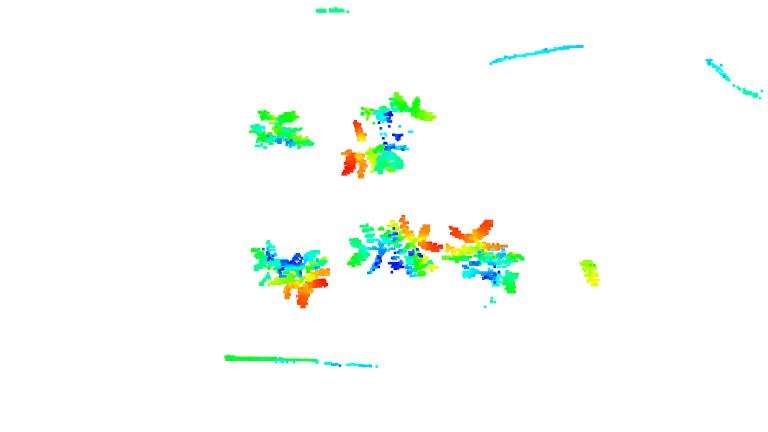chickpea: (340, 90, 437, 182), (343, 215, 443, 280), (441, 219, 526, 294), (250, 239, 331, 309), (250, 106, 316, 156), (576, 257, 605, 291)
